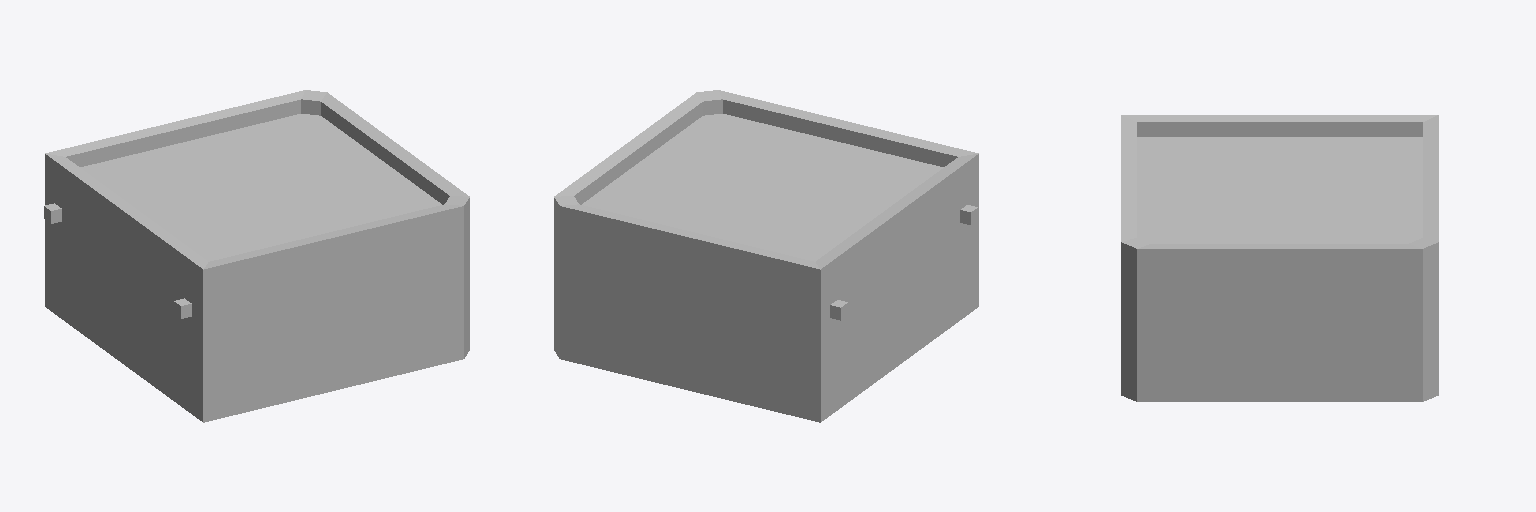
Rendered from BG_Building_01.obj.
3 views of the same model, side by side, from view 1: azimuth 30°, elevation 25°; view 2: azimuth 150°, elevation 25°; view 3: azimuth 270°, elevation 25° (orthographic).
Parts seen in each view (by area): view 1: Building_01; view 2: Building_01; view 3: Building_01.
Part boxes in pixels (x1,y1,x2,y2): Building_01: (44,90,469,422); Building_01: (554,90,978,422); Building_01: (1121,115,1438,401).
Bounding box in the file's own units: 731 × 375 × 703.